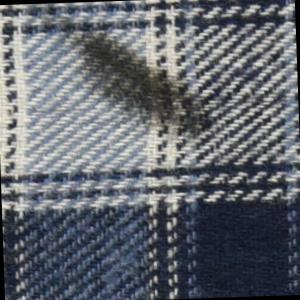Stain: (57, 19, 221, 147)
